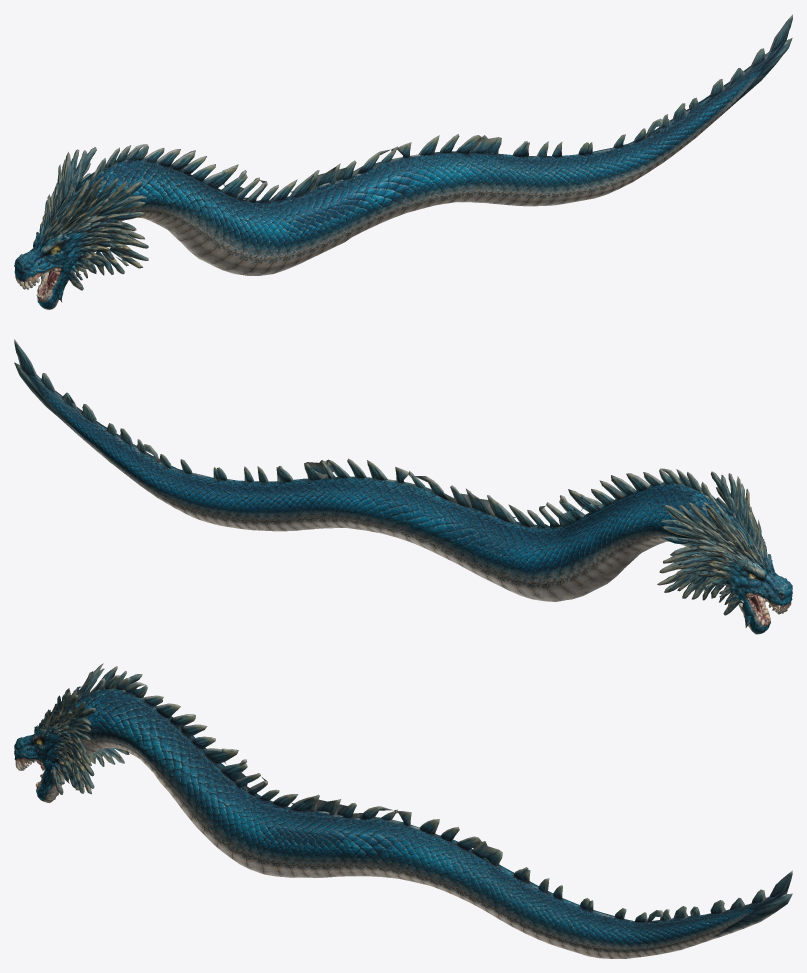
Rendered from moana-meshy.glb.
3 views of the same model, one above another, from view 1: azimuth 30°, elevation 25°; view 2: azimuth 150°, elevation 25°; view 3: azimuth 330°, elevation 25° (orthographic).
Bounding box in the file's own units: 1 × 0.2041 × 0.1245.
Materials: 1 (1 with a texture image).
